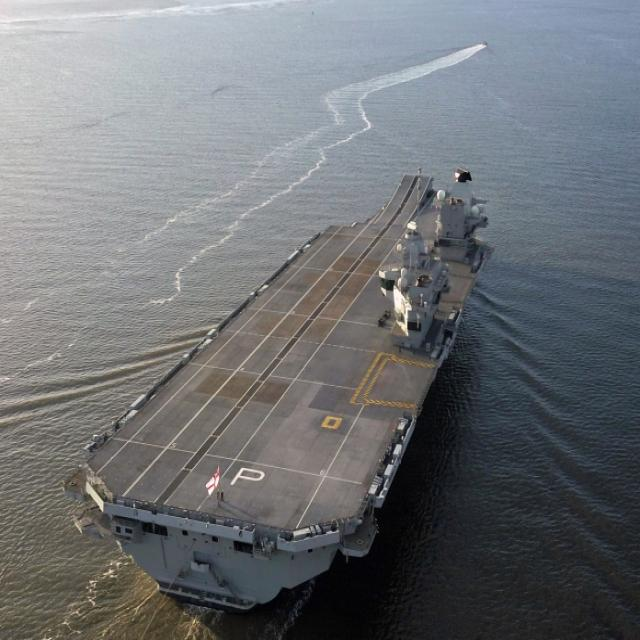Portanaves: (60, 158, 502, 637)
